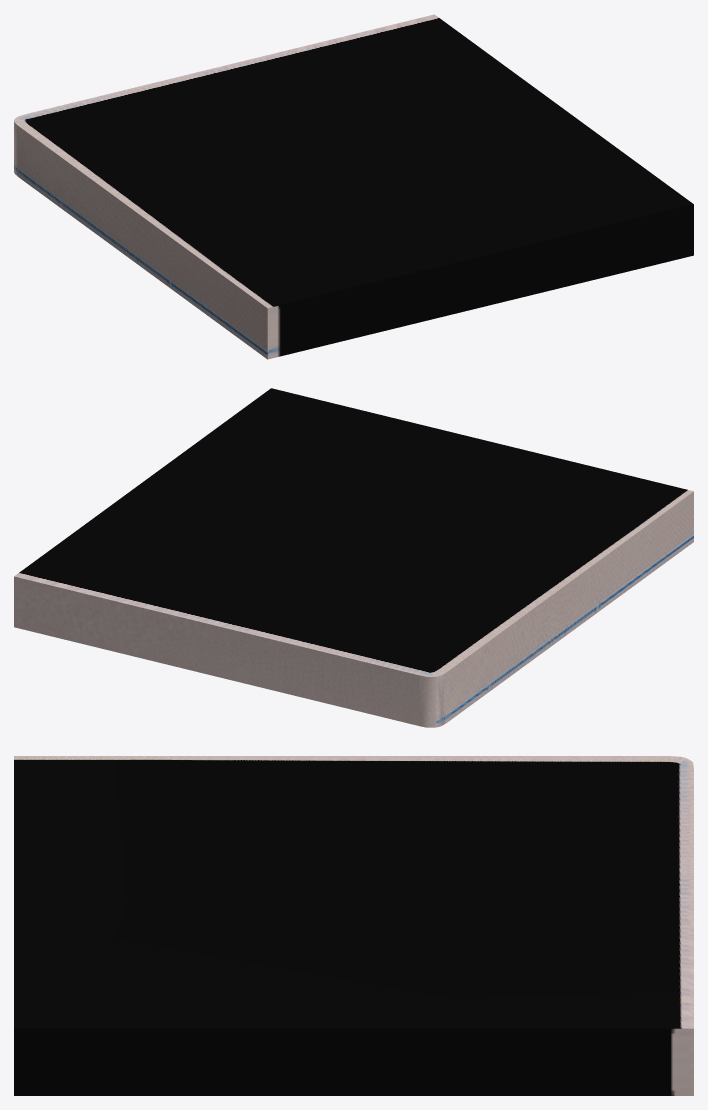
File: 11-roof-back-left.fbx
3 renders of one model, top to bottom at view 1: azimuth 30°, elevation 25°; view 2: azimuth 150°, elevation 25°; view 3: azimuth 270°, elevation 25°, orthographic. The views are drawn at different scales.
Visible parts, largest first — view 1: roof-back-left; view 2: roof-back-left; view 3: roof-back-left.
Part boxes in pixels (x1=…): roof-back-left: x1=14, y1=14, x2=693, y2=359; roof-back-left: x1=14, y1=388, x2=693, y2=727; roof-back-left: x1=14, y1=756, x2=693, y2=1095.
Size of the model in its own units: 6660 by 765 by 7020.
1 material, 1 textured.
